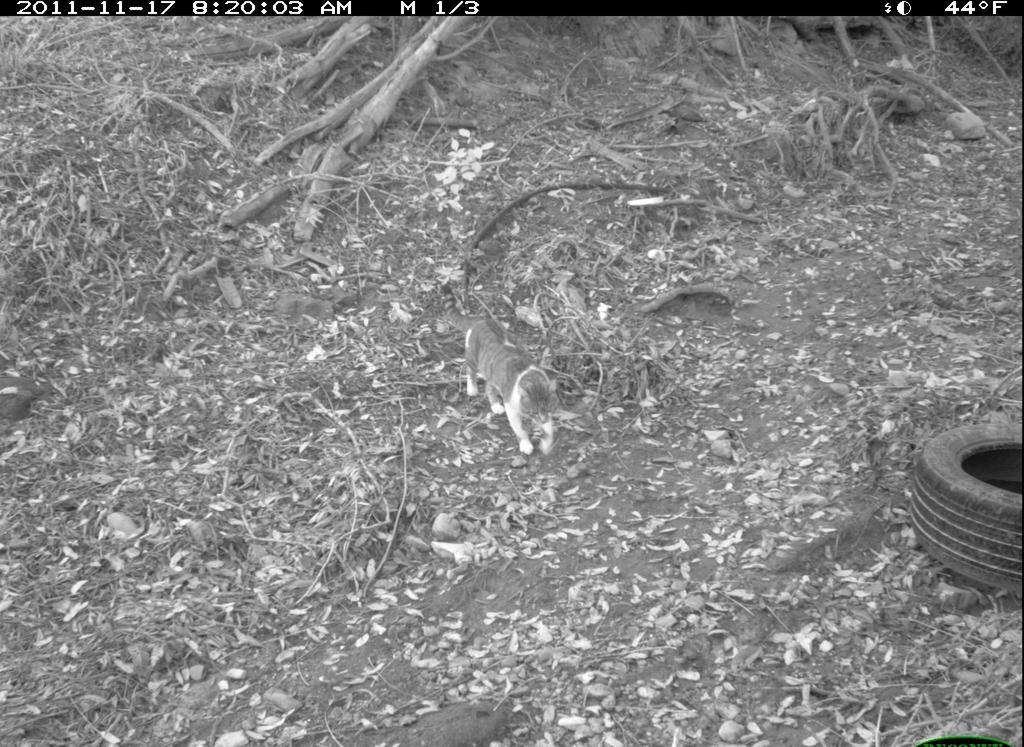cat: (443, 284, 560, 454)
